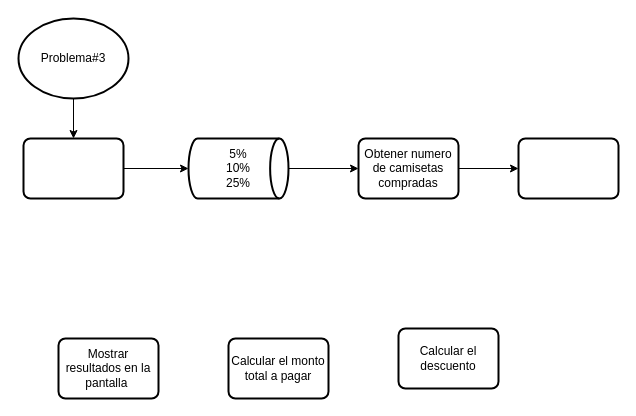
This 636x416 diagram has some shape labels left out. The box of each missing label's shape, as (x1, y1, x2, y2) in pixels:
Calcular subtotal de la cuenta: (517, 137, 619, 199)
Definir tasas de descuento: (22, 137, 124, 199)
